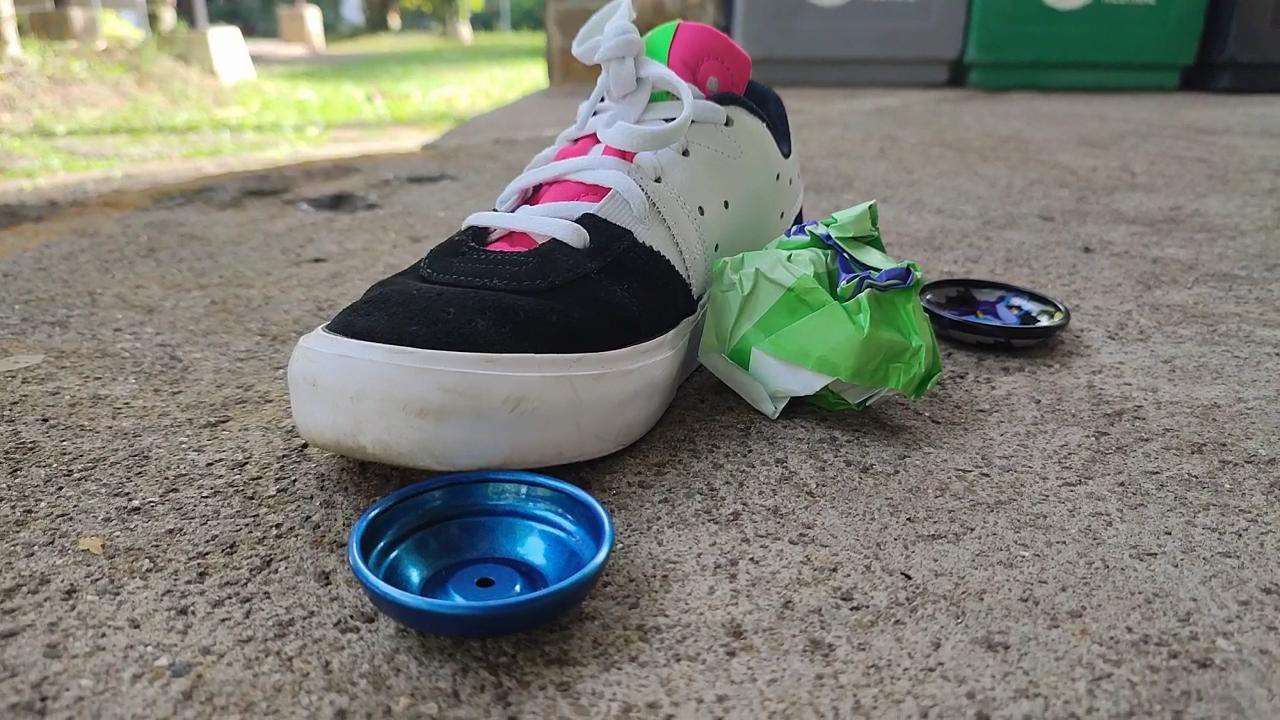Paper: (689, 195, 953, 431)
